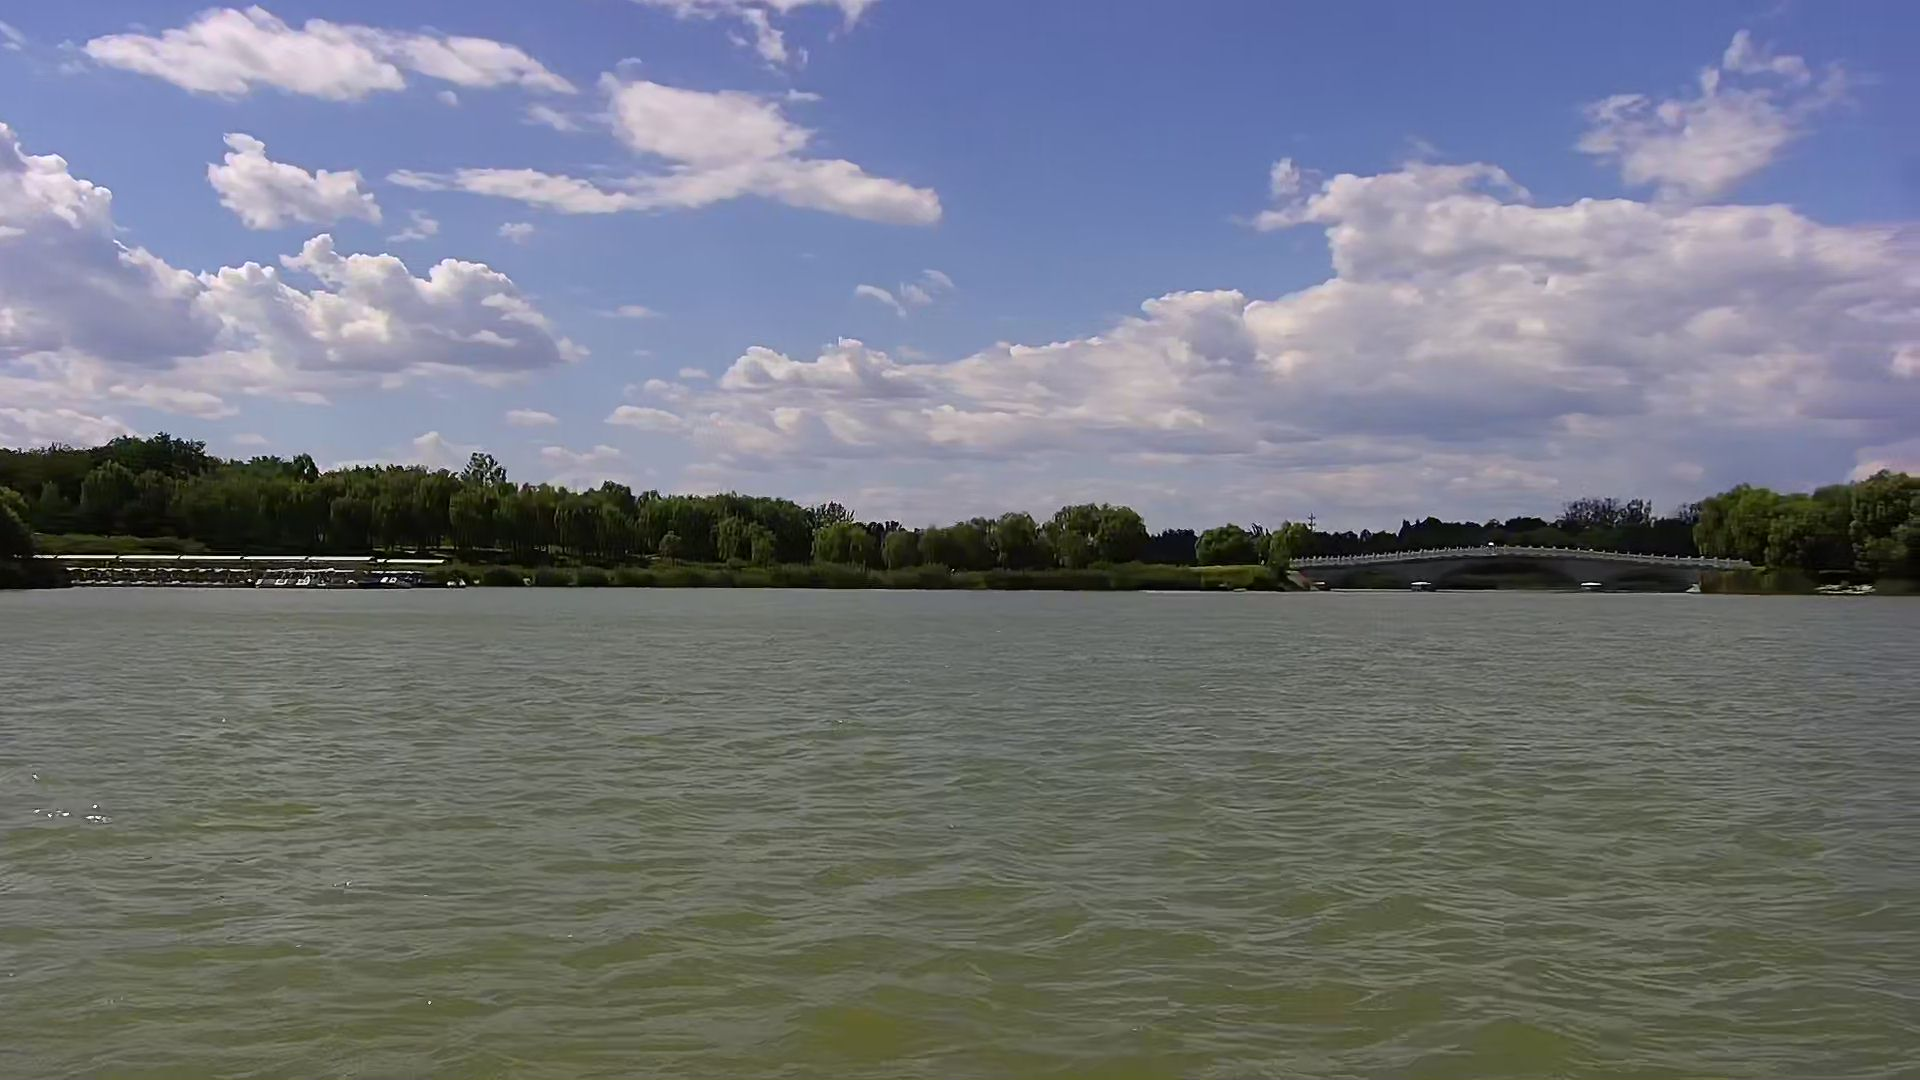bridge: (1288, 547, 1758, 597)
harbor: (37, 551, 440, 596)
